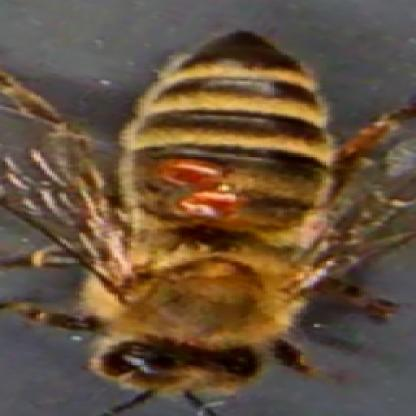bee: (103, 26, 305, 395)
vaoora: (158, 156, 227, 185), (192, 191, 240, 218)
